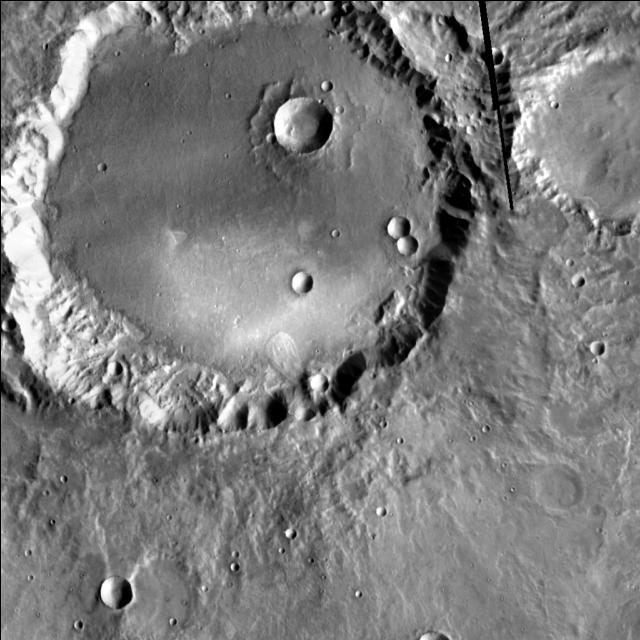crater: (0, 0, 458, 437), (310, 11, 510, 209), (509, 46, 640, 238), (108, 556, 188, 636), (265, 95, 324, 154), (526, 468, 575, 516), (154, 223, 192, 261), (92, 578, 124, 608), (379, 214, 403, 238), (282, 272, 304, 294), (388, 234, 410, 255), (300, 373, 320, 393), (96, 359, 115, 377), (476, 49, 494, 67), (580, 342, 596, 358), (564, 277, 576, 289), (275, 528, 287, 540), (314, 81, 324, 92), (64, 620, 74, 630), (366, 506, 376, 516), (258, 132, 268, 142), (0, 315, 8, 327), (458, 126, 467, 135), (432, 15, 441, 24), (89, 164, 99, 172), (328, 105, 336, 114), (322, 229, 330, 237), (563, 253, 571, 261), (220, 564, 228, 572), (160, 618, 168, 626), (80, 336, 88, 344), (51, 473, 59, 481), (437, 54, 445, 62), (481, 416, 488, 424), (22, 541, 30, 548), (352, 584, 359, 591), (378, 412, 384, 420), (549, 98, 556, 104), (231, 544, 238, 550)
